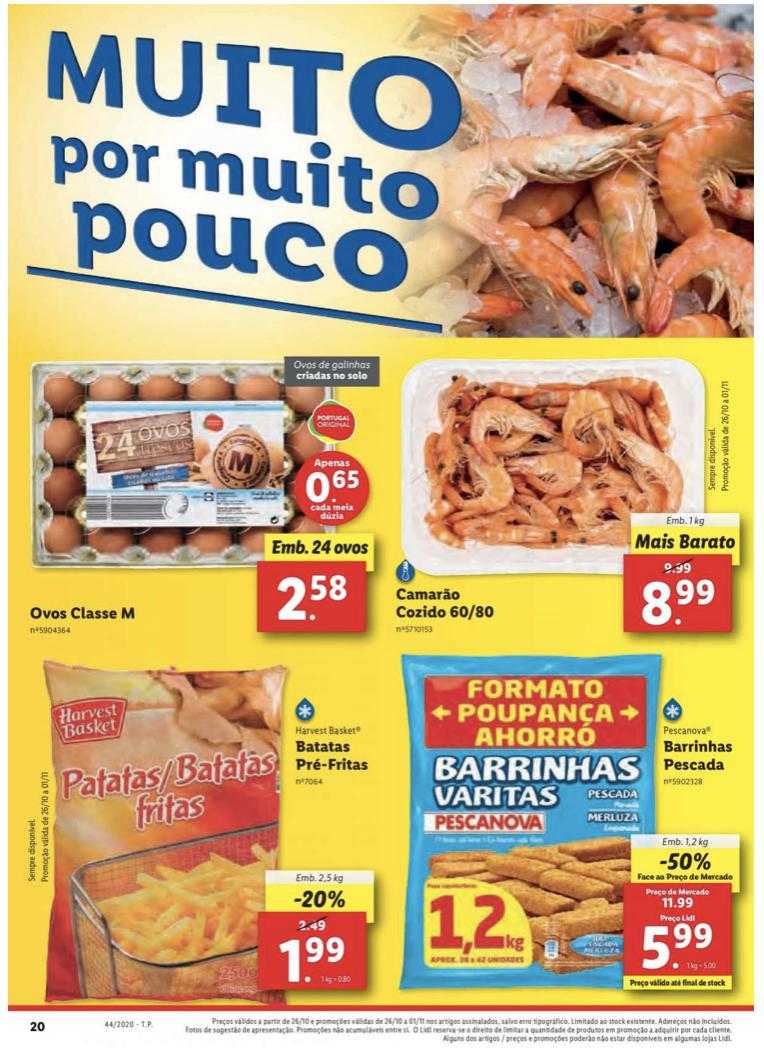name: (393, 585, 500, 620), (291, 737, 372, 774), (26, 602, 140, 626), (659, 737, 736, 772)
price: (636, 919, 717, 978), (278, 568, 354, 627), (639, 574, 720, 627), (278, 929, 348, 983)
product: (20, 644, 383, 1001), (393, 644, 750, 1002), (13, 352, 383, 645), (384, 349, 750, 640)
promotion: (659, 850, 717, 875), (291, 887, 349, 906)
